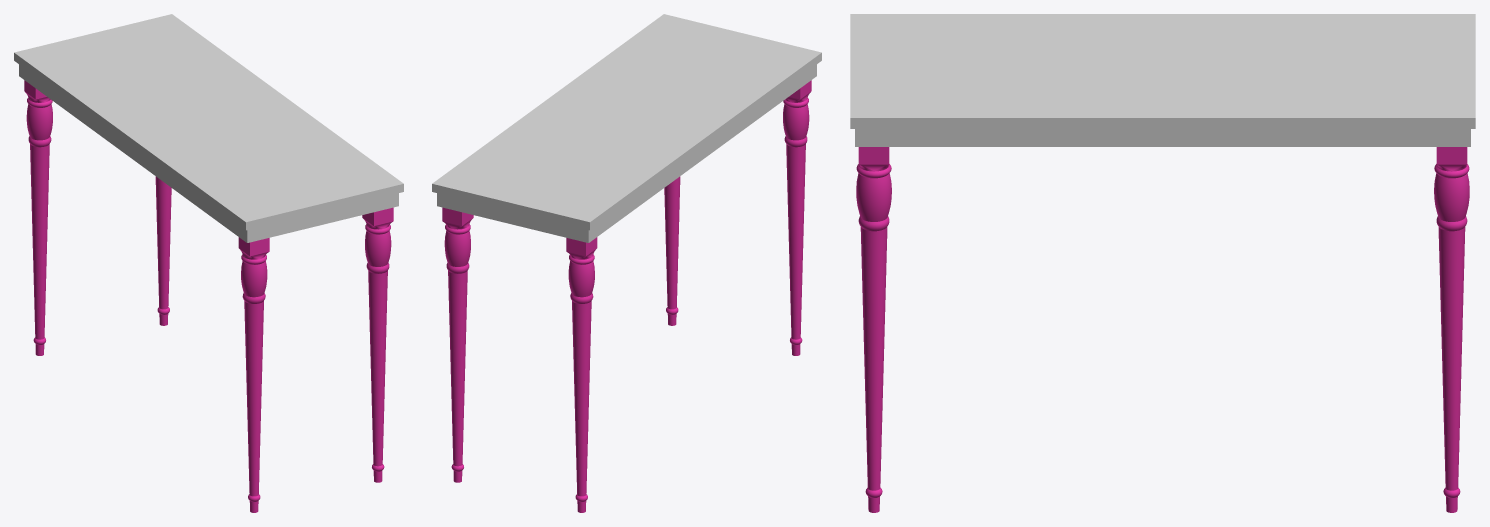
Rendered from table.fbx.
3 views of the same model, side by side, from view 1: azimuth 30°, elevation 25°; view 2: azimuth 150°, elevation 25°; view 3: azimuth 270°, elevation 25° (orthographic). The views are drawn at different scales.
Parts seen in each view (by area): view 1: Cube.001; view 2: Cube.001; view 3: Cube.001.
Boxes of the visible parts, x1,y1,x2,y2 form: Cube.001: [14, 14, 403, 512]; Cube.001: [432, 14, 821, 512]; Cube.001: [850, 14, 1475, 512].
Size of the model in its own units: 200 by 362 by 508.
